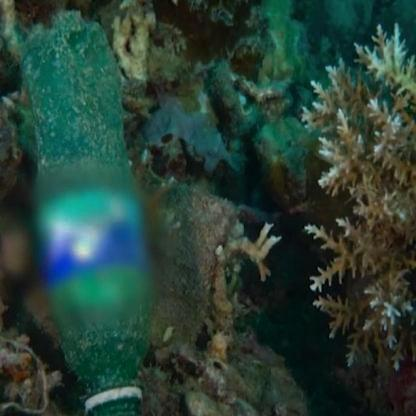pbottle: (13, 34, 166, 405)
